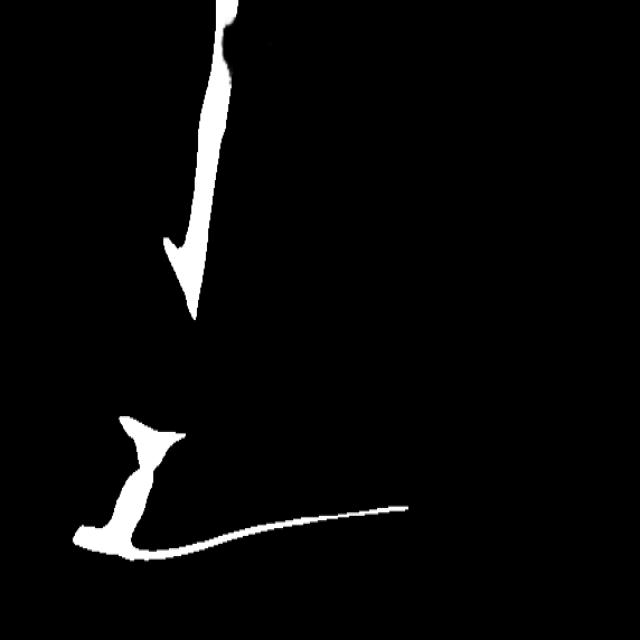sl: (206, 12, 240, 89)
